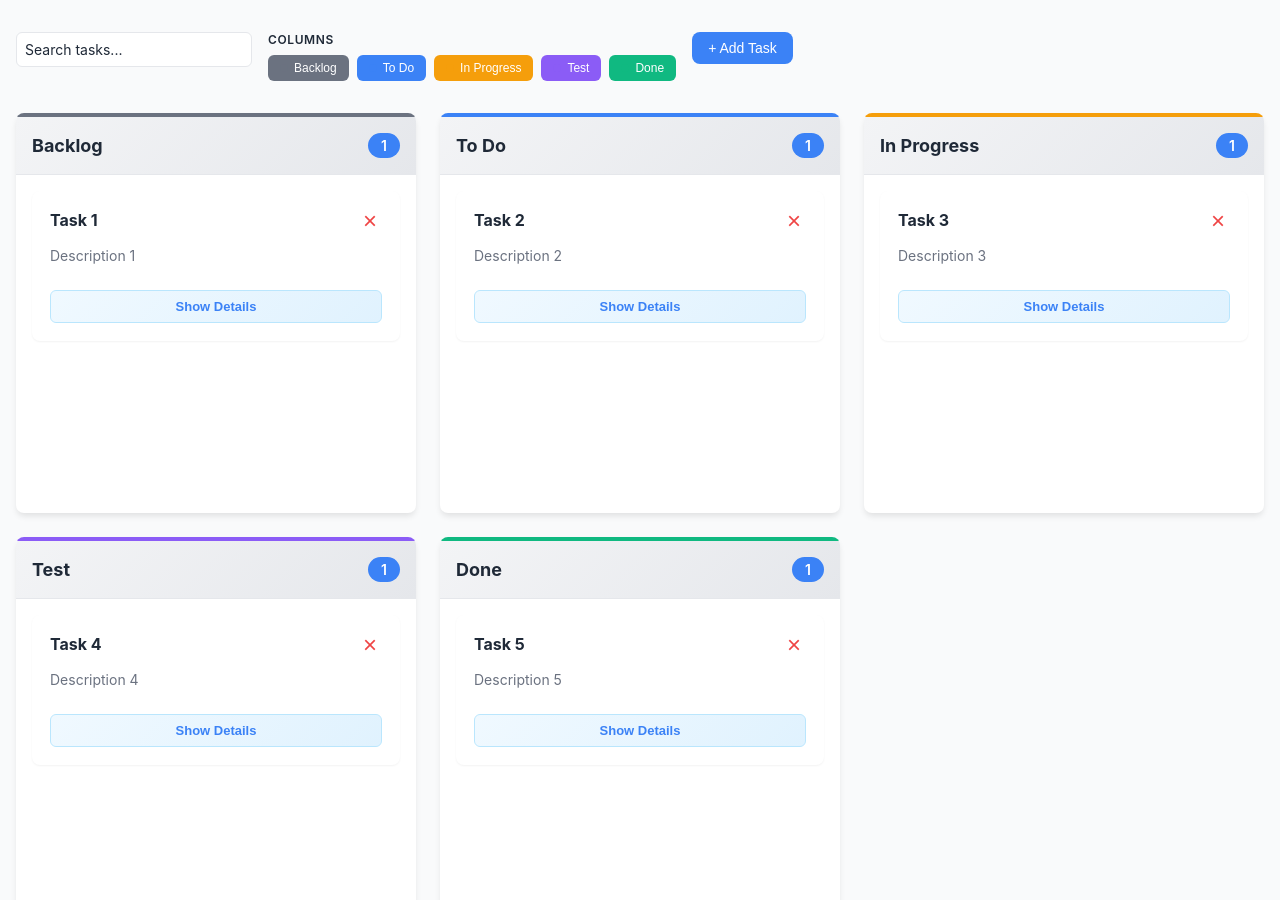
Test: Board Column Filter › should show hidden count when columns are hidden
Check: the text "hidden" is not shown
Hide one column
Click the button with aria-label "hide backlog column". click: [308, 68]
box: 268,55 -> 349,81
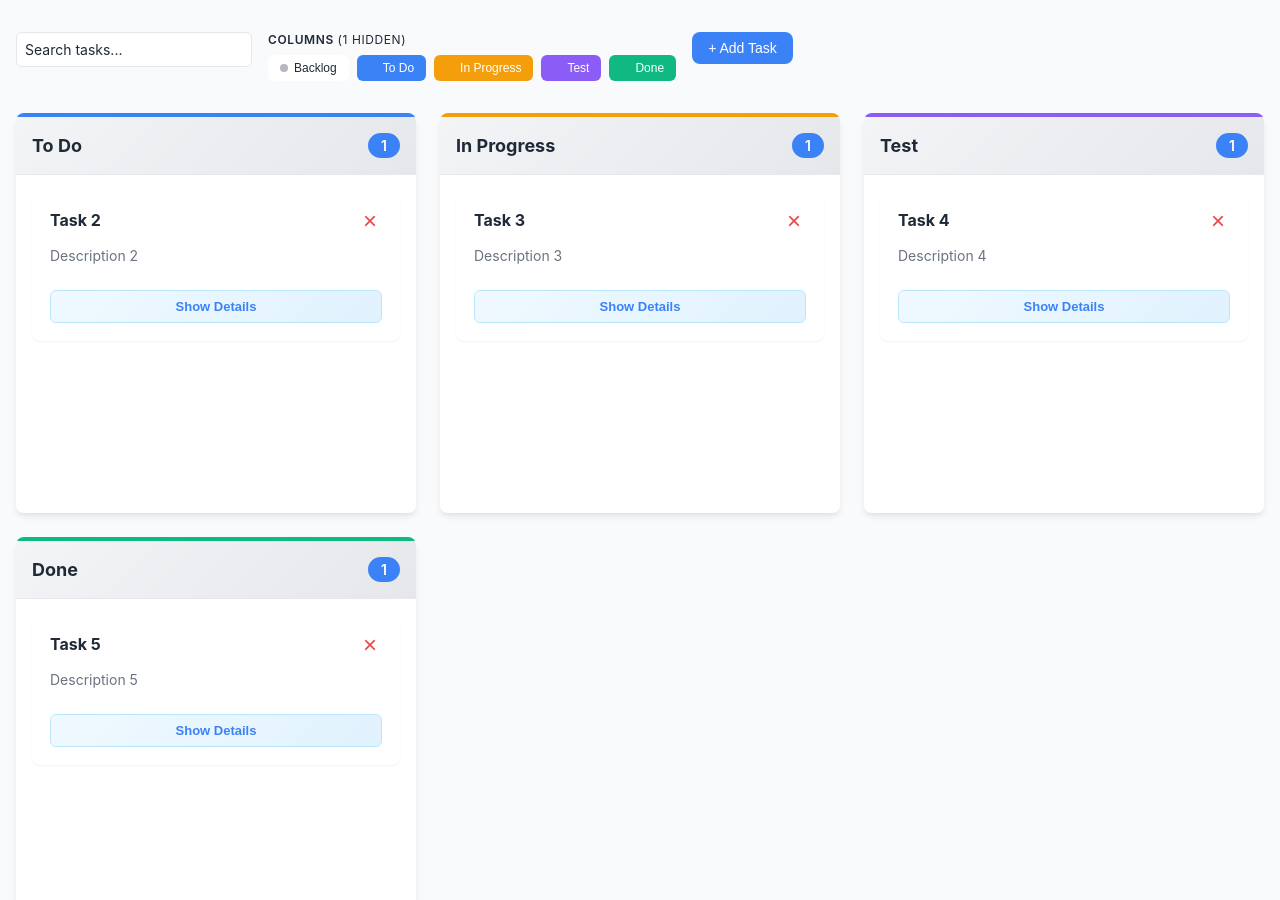
Check: the text "(1 hidden)" is shown, box 338,32 -> 406,47
Hide another column
Click the button with aria-label "hide to do column". click: [391, 68]
box: 357,55 -> 426,81
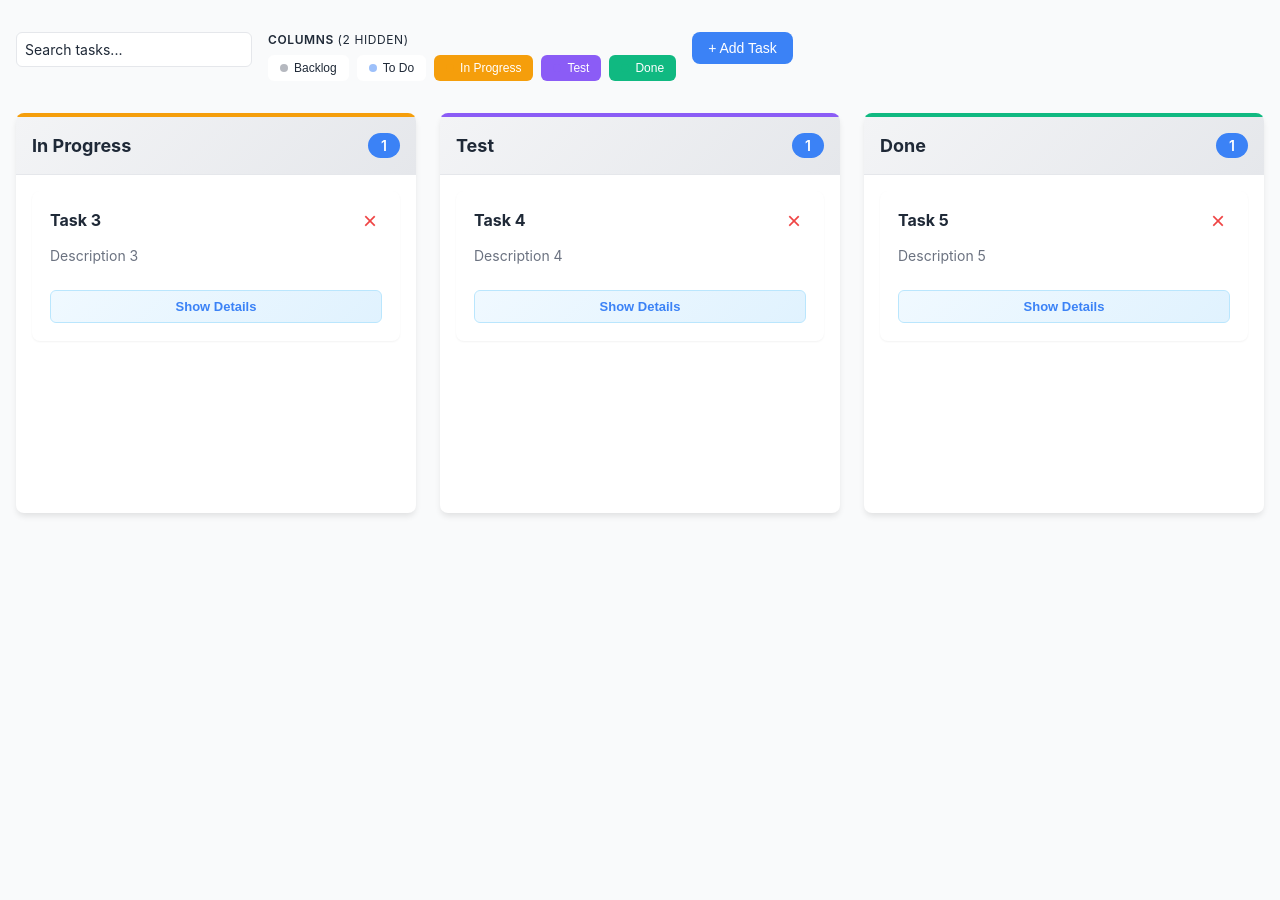
Check: the text "(2 hidden)" is shown, box 338,32 -> 409,47
Show one column back
Click the button named "hide backlog column". click: [308, 68]
box: 268,55 -> 349,81
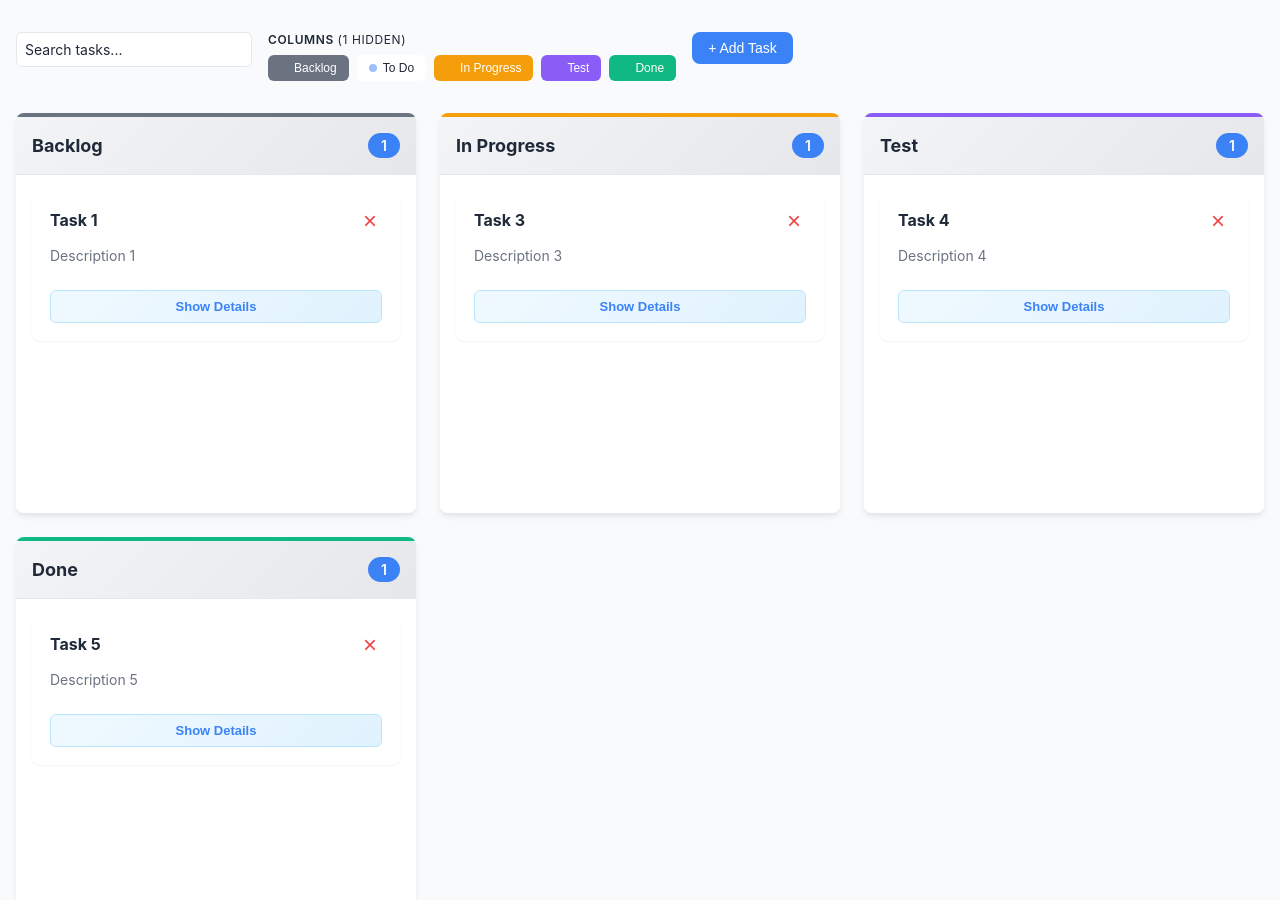
Check: the text "(1 hidden)" is shown, box 338,32 -> 406,47
